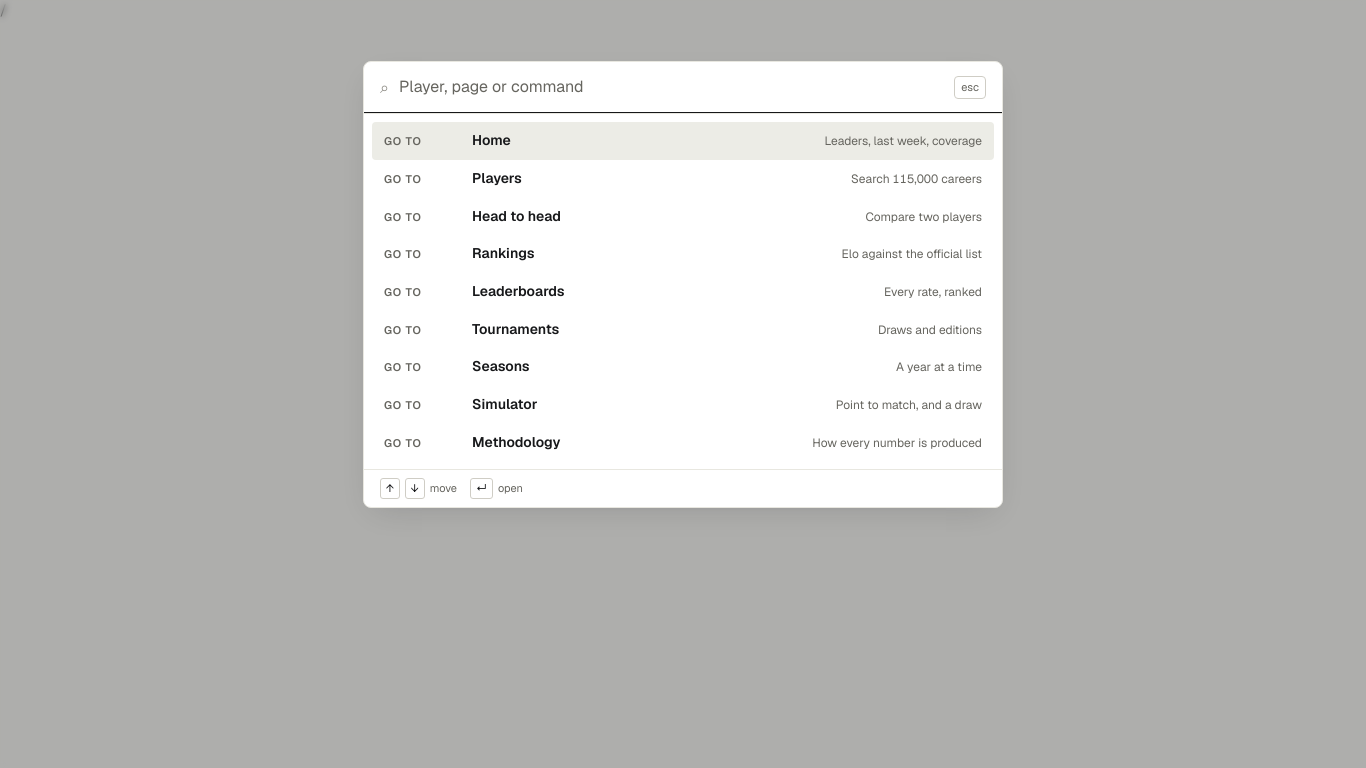
Test: CommandPalette › says why a one-letter query found nothing
The image size is (1366, 768).
Type "z" into the field at (672, 88), box [397,74,946,101]
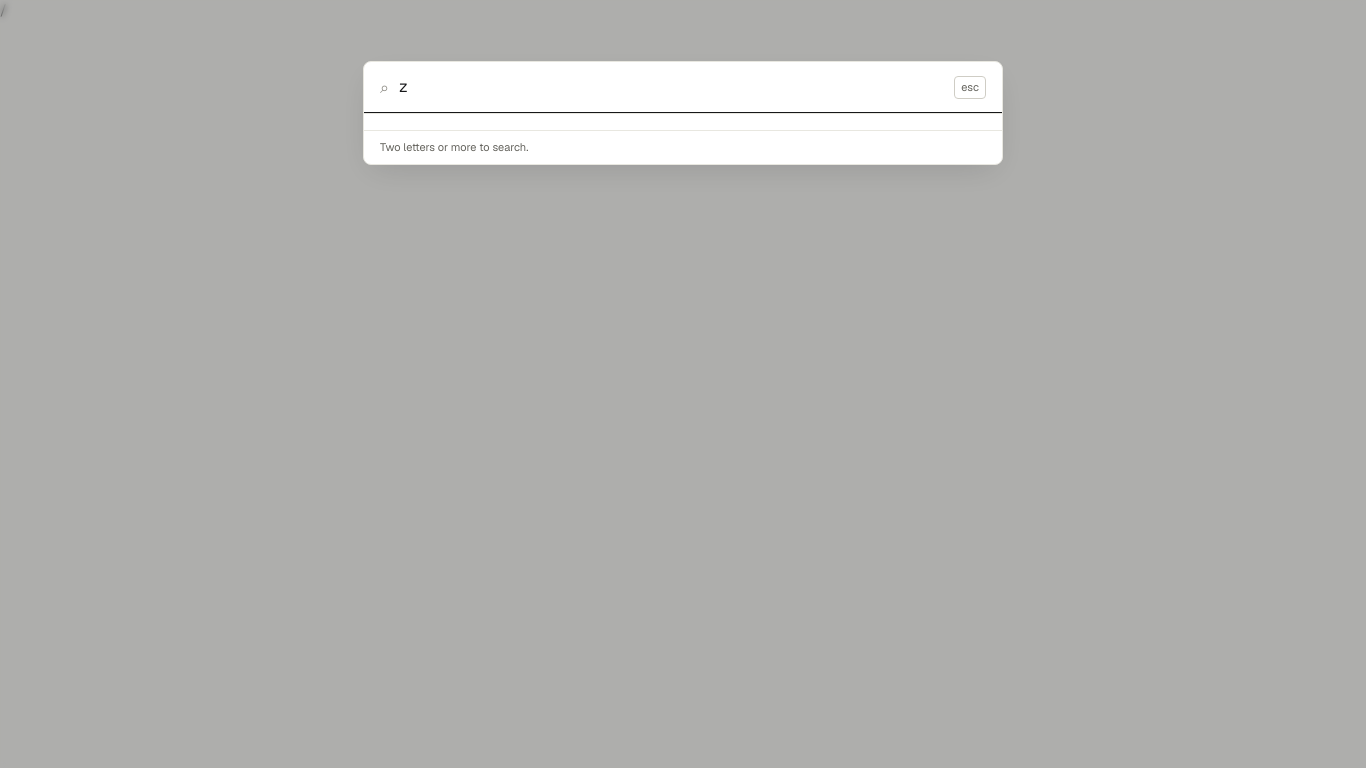
expect the text "Two letters or more to search." is shown: met, box [380,139,528,156]
